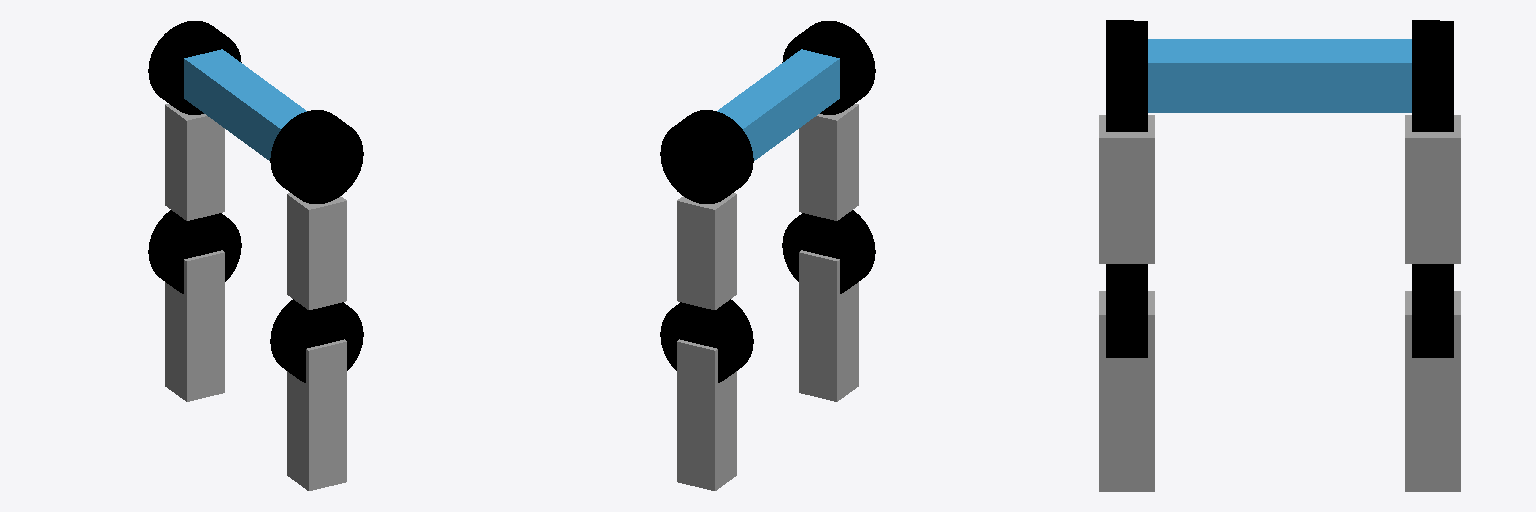
URDF robot description (exo_model):
<?xml version="1.0" ?>
<!-- =================================================================================== -->
<!-- |    This document was autogenerated by xacro from exo_model.xacro.urdf           | -->
<!-- |    EDITING THIS FILE BY HAND IS NOT RECOMMENDED                                 | -->
<!-- =================================================================================== -->
<robot name="exo_model">
  <!-- materials -->
  <material name="black">
    <color rgba="0.0 0.0 0.0 1.0"/>
  </material>
  <material name="grey">
    <color rgba="0.7 0.7 0.7 1.0"/>
  </material>
  <link name="dummy_link">
    <collision>
      <geometry>
        <box size="0.2 1.0 0.2"/>
      </geometry>
    </collision>
    <inertial>
      <origin xyz="0 0 0"/>
      <mass value="5.0"/>
      <inertia ixx="0.5" ixy="0" ixz="0" iyy="0.5" iyz="0" izz="0.5"/>
    </inertial>
  </link>
  <link name="base_link">
    <visual>
      <geometry>
        <box size="0.2 1.0 0.2"/>
      </geometry>
    </visual>
    <collision>
      <geometry>
        <box size="0.2 1.0 0.2"/>
      </geometry>
    </collision>
  </link>
  <joint name="base_fixedpoint" type="fixed">
    <parent link="base_link"/>
    <child link="dummy_link"/>
  </joint>
  <link name="left_hip_motor_link">
    <visual>
      <geometry>
        <cylinder length="0.15" radius="0.2"/>
      </geometry>
      <origin rpy="1.57 0 0" xyz="0 0 0"/>
      <!-- 90 degree is 1.57 rad -->
      <material name="black"/>
    </visual>
    <collision>
      <geometry>
        <cylinder length="0.15" radius="0.2"/>
      </geometry>
      <origin rpy="1.57 0 0" xyz="0 0 0"/>
    </collision>
    <!-- approximated inertia -->
    <inertial>
      <origin xyz="0 0 0"/>
      <mass value="0.3"/>
      <inertia ixx="0.002" ixy="0" ixz="0" iyy="0.002" iyz="0" izz="0.002"/>
    </inertial>
  </link>
  <link name="left_thigh_stand_link">
    <visual>
      <geometry>
        <box size="0.2 0.2 0.5"/>
      </geometry>
      <origin xyz="0 0 -0.25"/>
      <material name="grey"/>
    </visual>
    <collision>
      <geometry>
        <box size="0.2 0.2 0.5"/>
      </geometry>
      <origin xyz="0 0 -0.25"/>
    </collision>
    <inertial>
      <origin xyz="0 0 -0.25"/>
      <mass value="1.0"/>
      <inertia ixx="0.034166666666666665" ixy="0" ixz="0" iyy="0.02416666666666667" iyz="0" izz="0.01666666666666667"/>
    </inertial>
  </link>
  <link name="left_knee_motor_link">
    <visual>
      <geometry>
        <cylinder length="0.15" radius="0.2"/>
      </geometry>
      <origin rpy="1.57 0 0" xyz="0 0 0"/>
      <!-- 90 degree is 1.57 rad -->
      <material name="black"/>
    </visual>
    <collision>
      <geometry>
        <cylinder length="0.15" radius="0.2"/>
      </geometry>
      <origin rpy="1.57 0 0" xyz="0 0 0"/>
    </collision>
    <!-- approximated inertia -->
    <inertial>
      <origin xyz="0 0 0"/>
      <mass value="0.3"/>
      <inertia ixx="0.002" ixy="0" ixz="0" iyy="0.002" iyz="0" izz="0.002"/>
    </inertial>
  </link>
  <link name="left_shin_stand_link">
    <visual>
      <geometry>
        <box size="0.2 0.2 0.7"/>
      </geometry>
      <origin xyz="0 0 -0.35"/>
      <material name="grey"/>
    </visual>
    <collision>
      <geometry>
        <box size="0.2 0.2 0.7"/>
      </geometry>
      <origin xyz="0 0 -0.35"/>
    </collision>
    <inertial>
      <origin xyz="0 0 -0.35"/>
      <mass value="1.2"/>
      <inertia ixx="0.06499999999999999" ixy="0" ixz="0" iyy="0.052999999999999985" iyz="0" izz="0.020000000000000004"/>
    </inertial>
  </link>
  <!-- joints setting -->
  <joint name="left_hip_joint" type="revolute">
    <parent link="base_link"/>
    <child link="left_hip_motor_link"/>
    <origin xyz="0 -0.55 0"/>
    <axis xyz="0 1 0"/>
    <limit effort="60" lower="-1.5" upper="1.5" velocity="3.0"/>
  </joint>
  <joint name="link_left_hip_motor_and_thigh" type="fixed">
    <parent link="left_hip_motor_link"/>
    <child link="left_thigh_stand_link"/>
    <origin xyz="0 0 -0.2"/>
  </joint>
  <joint name="link_left_thigh_and_knee_motor" type="fixed">
    <parent link="left_thigh_stand_link"/>
    <child link="left_knee_motor_link"/>
    <origin xyz="0 0 -0.7"/>
  </joint>
  <joint name="left_knee_joint" type="revolute">
    <parent link="left_knee_motor_link"/>
    <child link="left_shin_stand_link"/>
    <origin xyz="0 0 0"/>
    <axis xyz="0 1 0"/>
    <limit effort="40" lower="0" upper="1.5" velocity="3.0"/>
  </joint>
  <link name="right_hip_motor_link">
    <visual>
      <geometry>
        <cylinder length="0.15" radius="0.2"/>
      </geometry>
      <origin rpy="1.57 0 0" xyz="0 0 0"/>
      <!-- 90 degree is 1.57 rad -->
      <material name="black"/>
    </visual>
    <collision>
      <geometry>
        <cylinder length="0.15" radius="0.2"/>
      </geometry>
      <origin rpy="1.57 0 0" xyz="0 0 0"/>
    </collision>
    <!-- approximated inertia -->
    <inertial>
      <origin xyz="0 0 0"/>
      <mass value="0.3"/>
      <inertia ixx="0.002" ixy="0" ixz="0" iyy="0.002" iyz="0" izz="0.002"/>
    </inertial>
  </link>
  <link name="right_thigh_stand_link">
    <visual>
      <geometry>
        <box size="0.2 0.2 0.5"/>
      </geometry>
      <origin xyz="0 0 -0.25"/>
      <material name="grey"/>
    </visual>
    <collision>
      <geometry>
        <box size="0.2 0.2 0.5"/>
      </geometry>
      <origin xyz="0 0 -0.25"/>
    </collision>
    <inertial>
      <origin xyz="0 0 -0.25"/>
      <mass value="1.0"/>
      <inertia ixx="0.034166666666666665" ixy="0" ixz="0" iyy="0.02416666666666667" iyz="0" izz="0.01666666666666667"/>
    </inertial>
  </link>
  <link name="right_knee_motor_link">
    <visual>
      <geometry>
        <cylinder length="0.15" radius="0.2"/>
      </geometry>
      <origin rpy="1.57 0 0" xyz="0 0 0"/>
      <!-- 90 degree is 1.57 rad -->
      <material name="black"/>
    </visual>
    <collision>
      <geometry>
        <cylinder length="0.15" radius="0.2"/>
      </geometry>
      <origin rpy="1.57 0 0" xyz="0 0 0"/>
    </collision>
    <!-- approximated inertia -->
    <inertial>
      <origin xyz="0 0 0"/>
      <mass value="0.3"/>
      <inertia ixx="0.002" ixy="0" ixz="0" iyy="0.002" iyz="0" izz="0.002"/>
    </inertial>
  </link>
  <link name="right_shin_stand_link">
    <visual>
      <geometry>
        <box size="0.2 0.2 0.7"/>
      </geometry>
      <origin xyz="0 0 -0.35"/>
      <material name="grey"/>
    </visual>
    <collision>
      <geometry>
        <box size="0.2 0.2 0.7"/>
      </geometry>
      <origin xyz="0 0 -0.35"/>
    </collision>
    <inertial>
      <origin xyz="0 0 -0.35"/>
      <mass value="1.2"/>
      <inertia ixx="0.06499999999999999" ixy="0" ixz="0" iyy="0.052999999999999985" iyz="0" izz="0.020000000000000004"/>
    </inertial>
  </link>
  <!-- joints setting -->
  <joint name="right_hip_joint" type="revolute">
    <parent link="base_link"/>
    <child link="right_hip_motor_link"/>
    <origin xyz="0 0.55 0"/>
    <axis xyz="0 1 0"/>
    <limit effort="60" lower="-1.5" upper="1.5" velocity="3.0"/>
  </joint>
  <joint name="link_right_hip_motor_and_thigh" type="fixed">
    <parent link="right_hip_motor_link"/>
    <child link="right_thigh_stand_link"/>
    <origin xyz="0 0 -0.2"/>
  </joint>
  <joint name="link_right_thigh_and_knee_motor" type="fixed">
    <parent link="right_thigh_stand_link"/>
    <child link="right_knee_motor_link"/>
    <origin xyz="0 0 -0.7"/>
  </joint>
  <joint name="right_knee_joint" type="revolute">
    <parent link="right_knee_motor_link"/>
    <child link="right_shin_stand_link"/>
    <origin xyz="0 0 0"/>
    <axis xyz="0 1 0"/>
    <limit effort="40" lower="0" upper="1.5" velocity="3.0"/>
  </joint>
  <!-- import other xacro files or plugins -->
</robot>

--- Render facts (derived) ---
Views: 3 orthographic renders of the robot side by side, from view 1: azimuth 30°, elevation 25°; view 2: azimuth 150°, elevation 25°; view 3: azimuth 270°, elevation 25°.
Robot: exo_model — 10 links, 9 joints (4 revolute, 5 fixed); root link base_link; default pose: every joint at zero.
Visible links, largest first — view 1: left_shin_stand_link, right_shin_stand_link, base_link, left_hip_motor_link, left_thigh_stand_link, right_thigh_stand_link, right_knee_motor_link, left_knee_motor_link, right_hip_motor_link; view 2: right_shin_stand_link, left_shin_stand_link, base_link, right_hip_motor_link, right_thigh_stand_link, left_thigh_stand_link, left_knee_motor_link, right_knee_motor_link, left_hip_motor_link; view 3: base_link, left_shin_stand_link, right_shin_stand_link, left_thigh_stand_link, right_thigh_stand_link, left_hip_motor_link, right_hip_motor_link, left_knee_motor_link, right_knee_motor_link.
Link boxes in pixels (x1,y1,x2,y2): left_shin_stand_link: (287,339,346,490); right_shin_stand_link: (165,250,224,401); base_link: (184,49,306,160); left_hip_motor_link: (270,110,363,203); left_thigh_stand_link: (287,193,346,309); right_thigh_stand_link: (165,104,224,220); right_knee_motor_link: (148,210,241,293); left_knee_motor_link: (270,299,363,382); right_hip_motor_link: (148,21,241,114); right_shin_stand_link: (677,339,736,490); left_shin_stand_link: (799,250,858,401); base_link: (717,49,839,160); right_hip_motor_link: (660,110,753,203); right_thigh_stand_link: (677,193,736,309); left_thigh_stand_link: (799,104,858,220); left_knee_motor_link: (782,210,875,293); right_knee_motor_link: (660,299,753,382); left_hip_motor_link: (782,21,875,114); base_link: (1148,39,1411,112); left_shin_stand_link: (1099,291,1154,491); right_shin_stand_link: (1405,291,1460,491); left_thigh_stand_link: (1099,115,1154,263); right_thigh_stand_link: (1405,115,1460,263); left_hip_motor_link: (1106,20,1147,131); right_hip_motor_link: (1412,20,1453,131); left_knee_motor_link: (1106,264,1147,357); right_knee_motor_link: (1412,264,1453,357).
Bounding box of the posed robot: 0.4 × 1.3 × 1.8 m (x, y, z).
Geometry: primitives only (box / cylinder / sphere), no mesh files.
